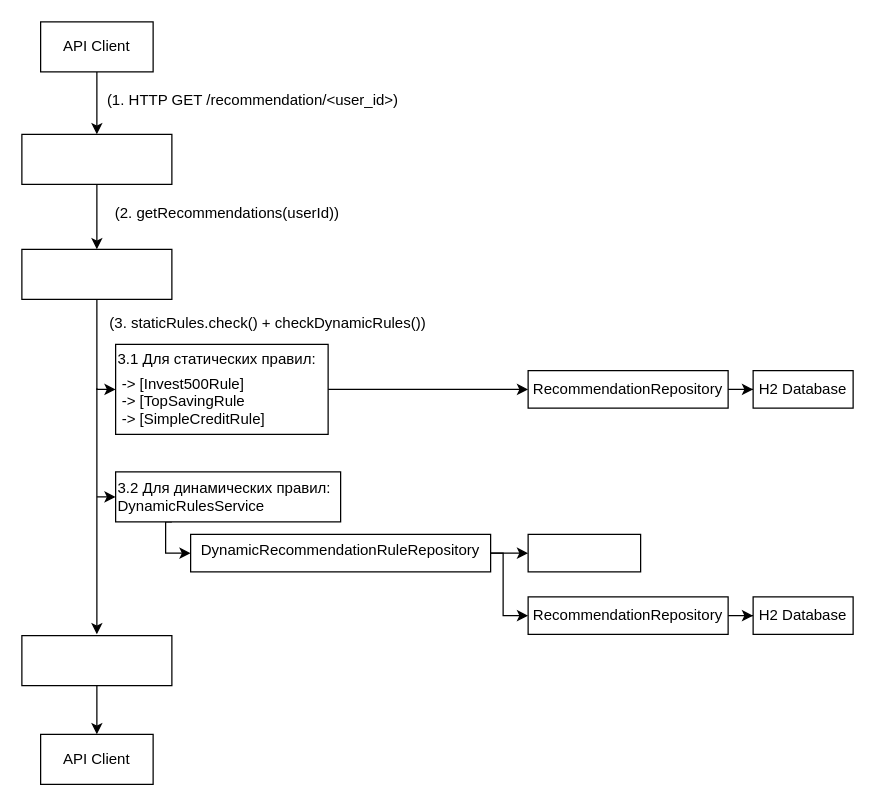
This 875x806 diagram has some shape labels left out. The centre of each missing label's shape, as x and y in pixels:
"PostgreSQL" belongs at point 584,552.
"Recommendation Controller" belongs at point 96,158.
"Recommendation Service" belongs at point 96,273.
"формирование ответа" belongs at point 96,660.
